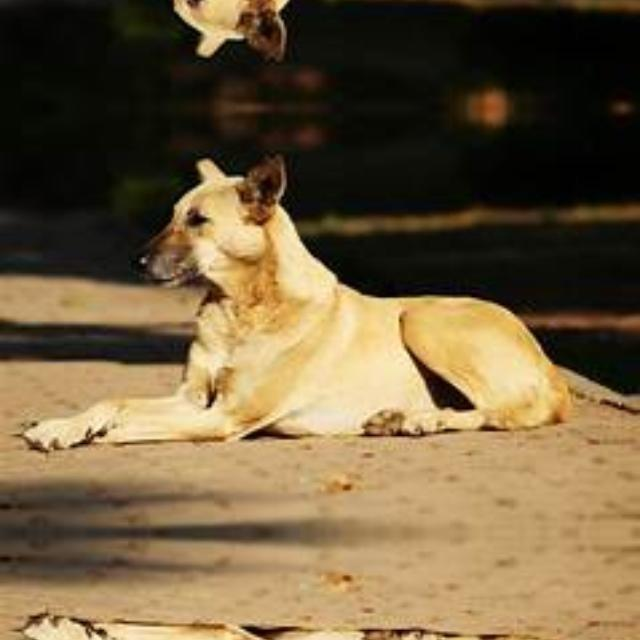dog: (32, 156, 528, 482), (32, 0, 528, 57), (32, 584, 528, 640)
